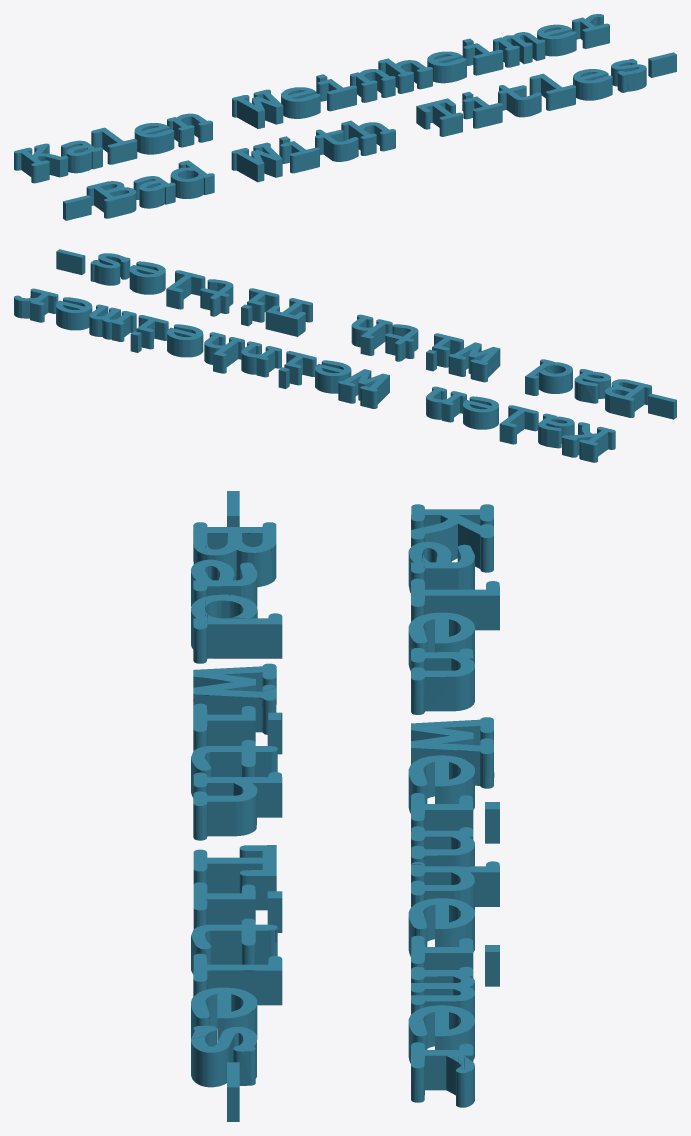
File: CreativeCoding2Assignment10Text.obj
3 renders of one model, top to bottom at view 1: azimuth 30°, elevation 25°; view 2: azimuth 150°, elevation 25°; view 3: azimuth 270°, elevation 25°, orthographic. The views are drawn at different scales.
Visible parts, largest first — view 1: Text; view 2: Text; view 3: Text.
Boxes of the visible parts, x1,y1,x2,y2 form: Text: (14, 14, 676, 220); Text: (14, 249, 676, 462); Text: (191, 491, 499, 1121).
Size of the model in its own units: 5.19 by 0.14 by 1.14.
